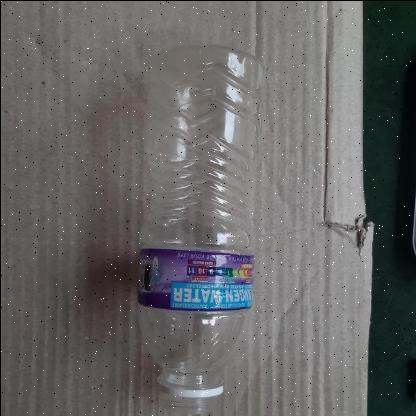Plastic Bottle: (134, 44, 264, 414)
